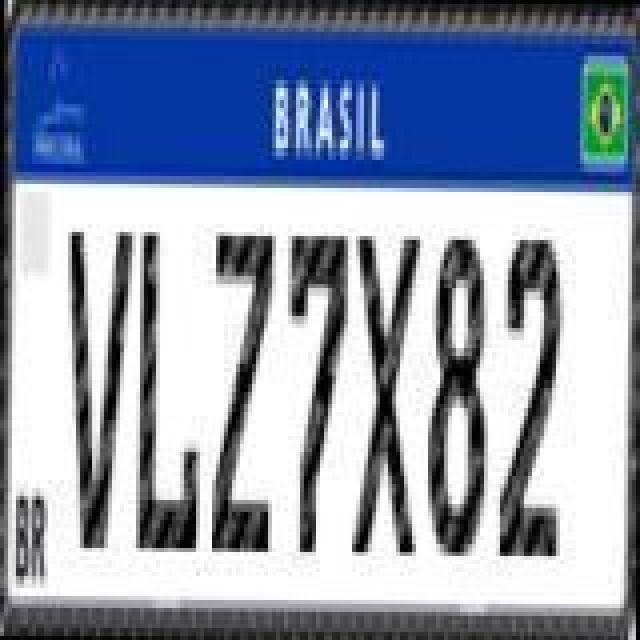2: (494, 230, 562, 562)
7: (280, 230, 352, 554)
8: (422, 226, 490, 558)
L: (132, 228, 204, 556)
V: (60, 224, 132, 552)
X: (348, 228, 420, 556)
Z: (204, 226, 276, 558)
